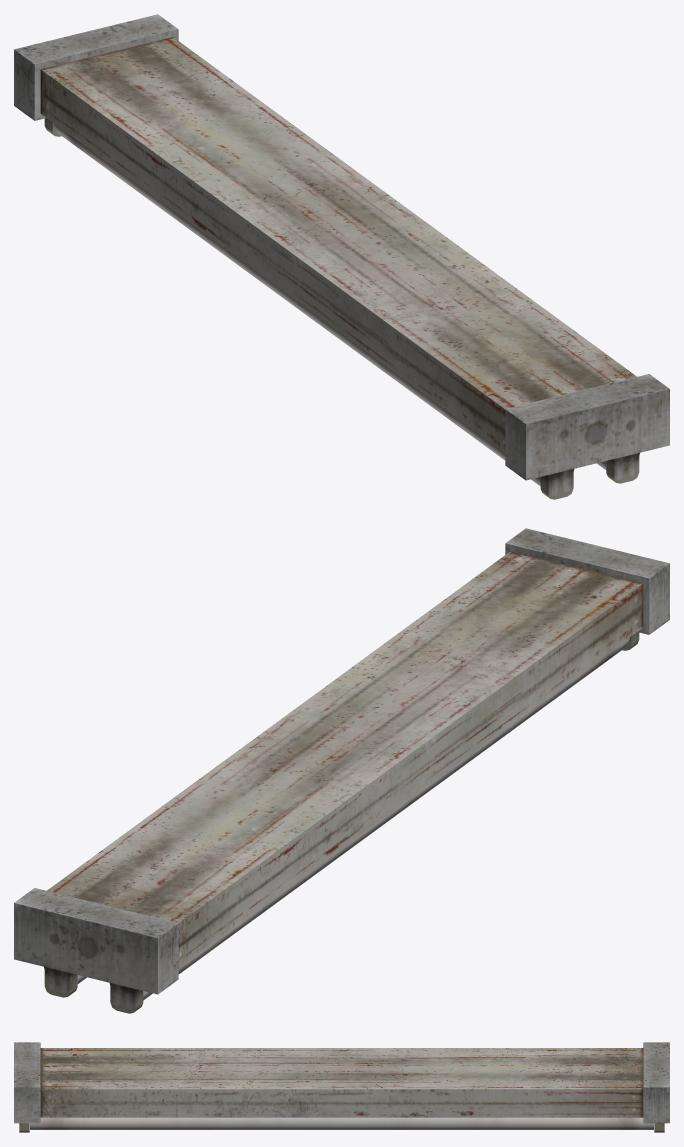
Rendered from FluorescentLight_01a_snaps011.fbx.
3 views of the same model, one above another, from view 1: azimuth 30°, elevation 25°; view 2: azimuth 150°, elevation 25°; view 3: azimuth 270°, elevation 25° (orthographic). The views are drawn at different scales.
Visible parts, largest first — view 1: FluorescentLight_01a_snaps011_LOD0; view 2: FluorescentLight_01a_snaps011_LOD0; view 3: FluorescentLight_01a_snaps011_LOD0.
Boxes of the visible parts, x1,y1,x2,y2 form: FluorescentLight_01a_snaps011_LOD0: (14,14,669,499); FluorescentLight_01a_snaps011_LOD0: (14,528,669,1013); FluorescentLight_01a_snaps011_LOD0: (14,1042,669,1132).
Size of what is drawn, in the model's own units: 19.93 by 11.45 by 123.
